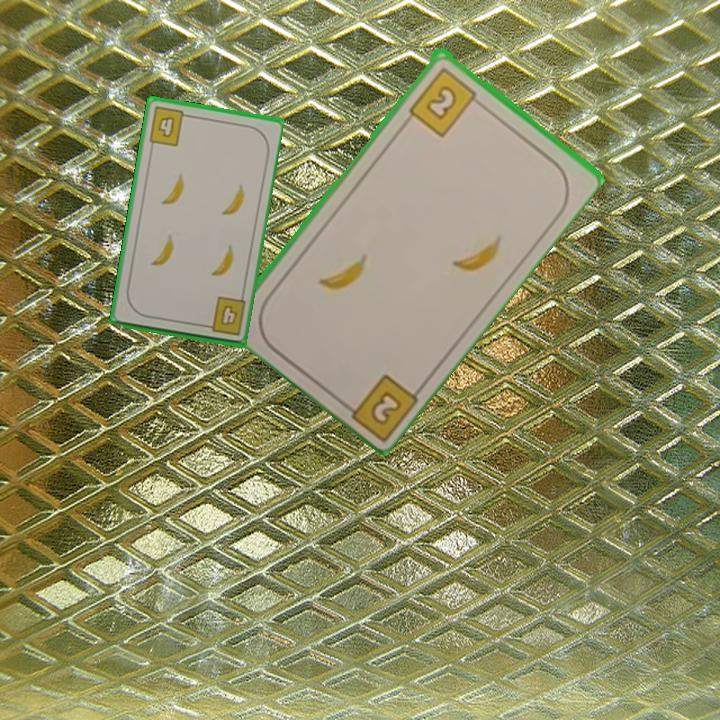2b: (336, 369, 421, 441), (405, 63, 485, 139)
4b: (199, 293, 248, 339), (145, 103, 193, 149)
